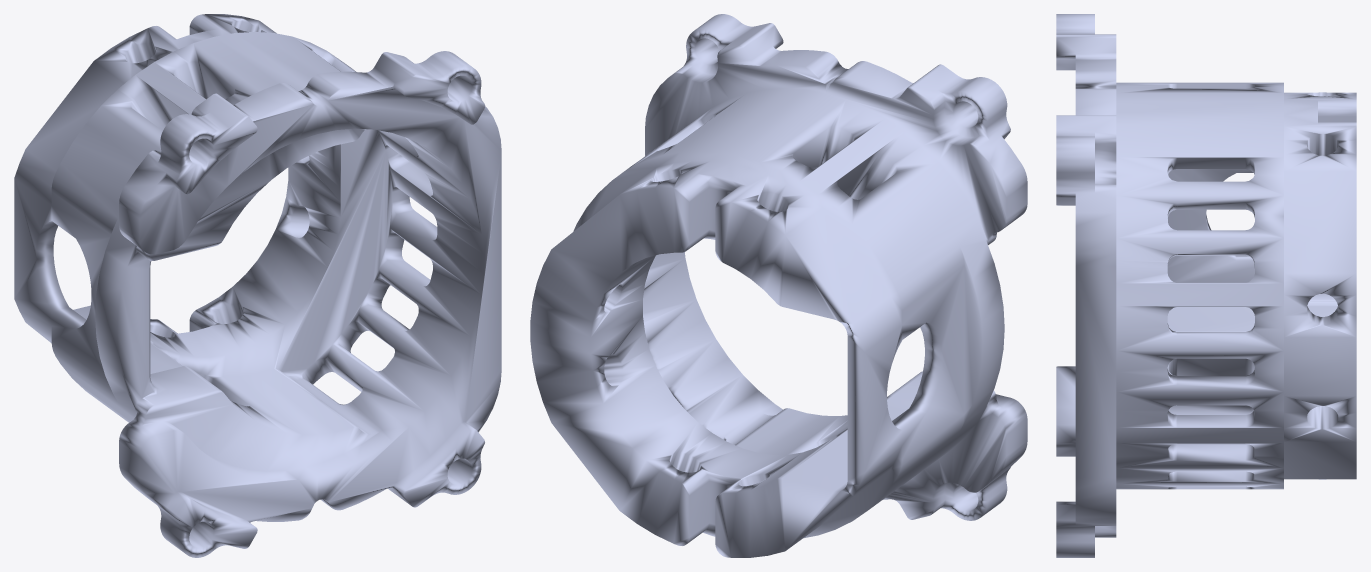
Rendered from right_wrist_B_cad1ee.glb.
The picture shows the model from 3 angles, left to right: view 1: azimuth 30°, elevation 25°; view 2: azimuth 150°, elevation 25°; view 3: azimuth 270°, elevation 25°; orthographic projection. The views are drawn at different scales.
Visible parts, largest first — view 1: wrist_B_0; view 2: wrist_B_0; view 3: wrist_B_0.
Boxes of the visible parts, x1=… form: wrist_B_0: x1=14, y1=14, x2=501, y2=557; wrist_B_0: x1=530, y1=14, x2=1027, y2=557; wrist_B_0: x1=1056, y1=14, x2=1356, y2=557.
Bounding box in the file's own units: 0.042 × 0.048 × 0.031.
